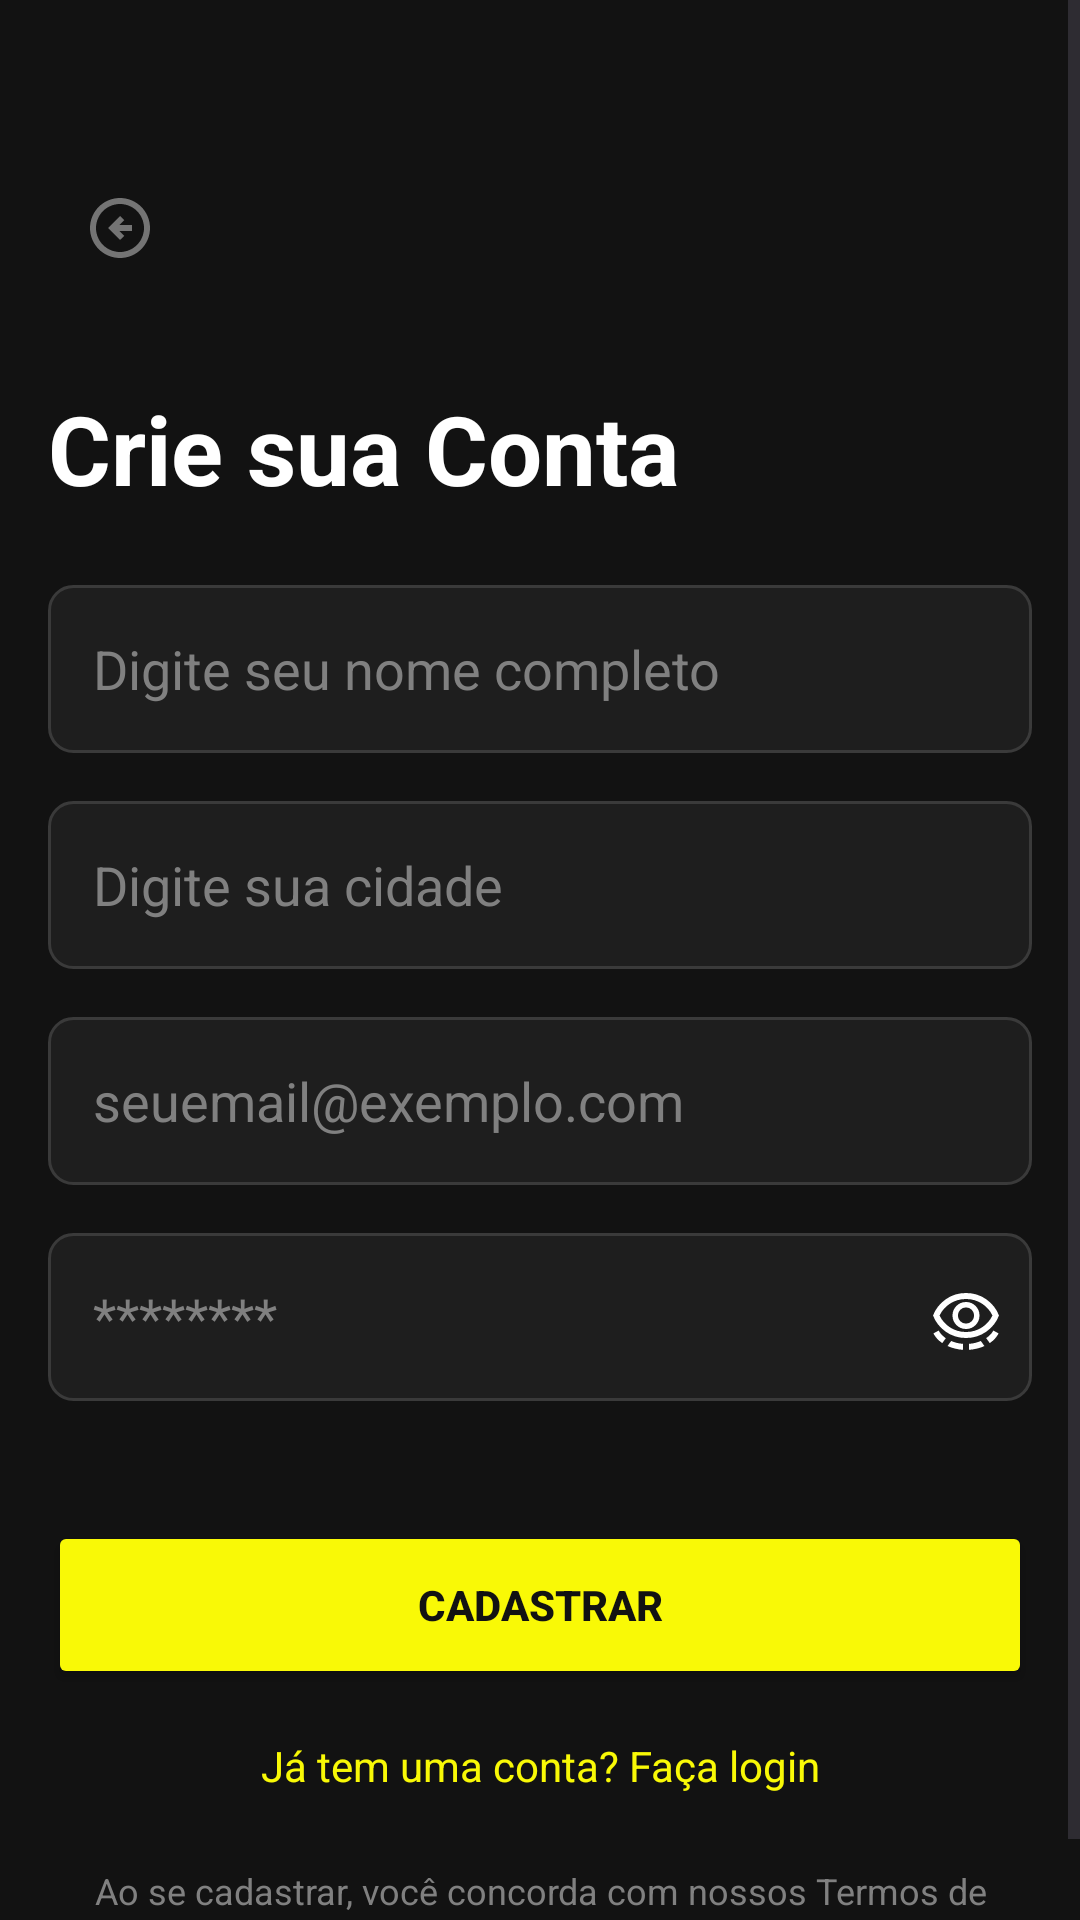

Screen size 1080px x 1920px. Icon name, then its center in pixels as [x,y]:
eyes: [966,1321]
Voltar: [120,228]
